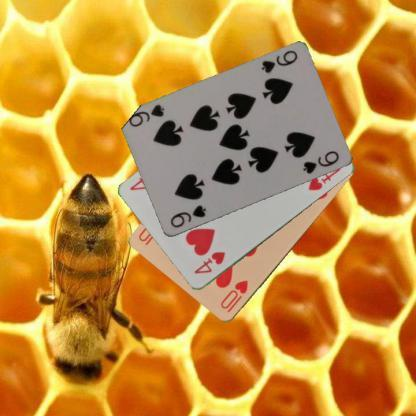10h: (218, 278, 249, 314)
4h: (191, 249, 226, 276)
9s: (258, 48, 299, 75), (168, 203, 208, 230)
